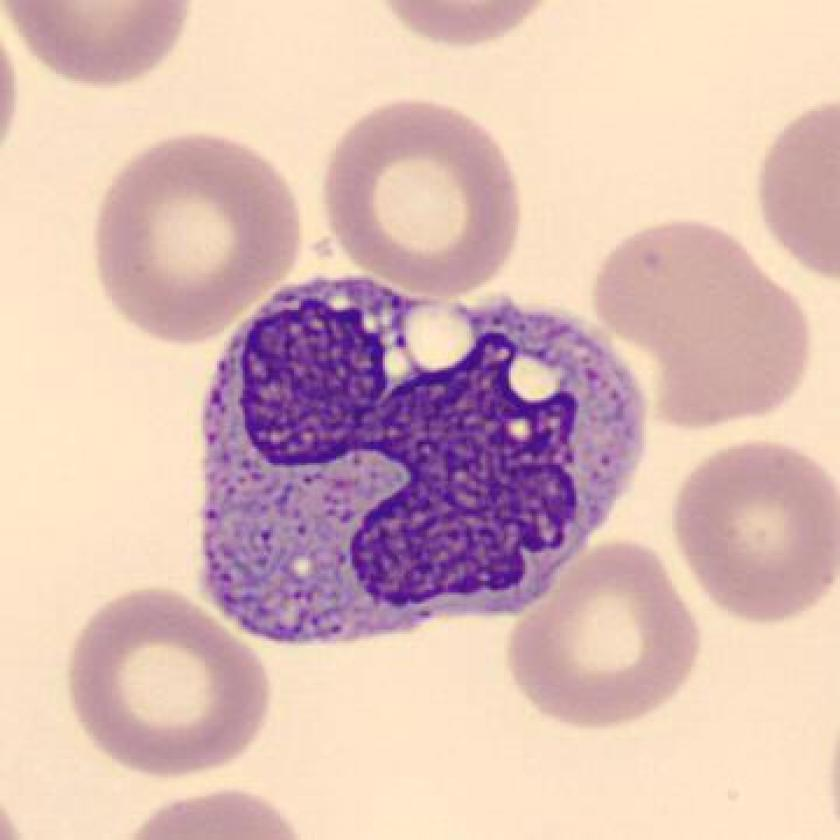monocyte: (181, 258, 657, 670)
